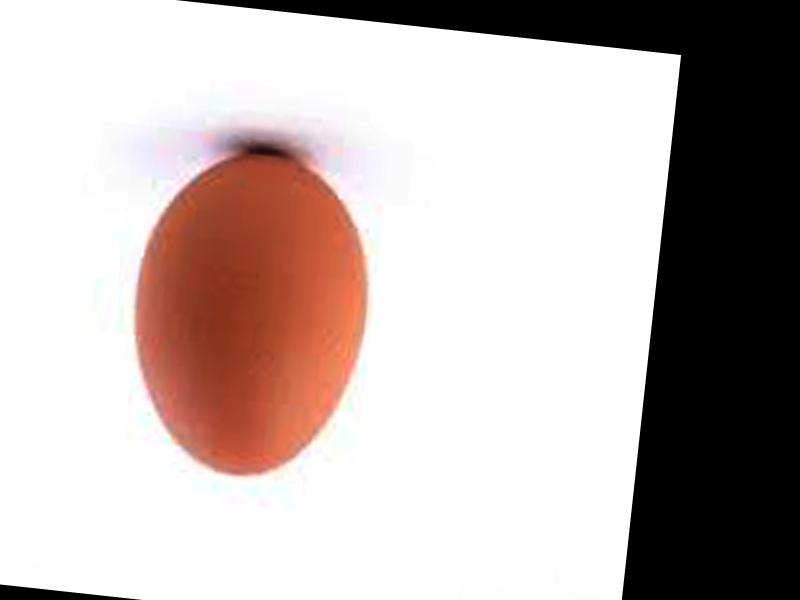Eggs: (115, 141, 381, 486)
